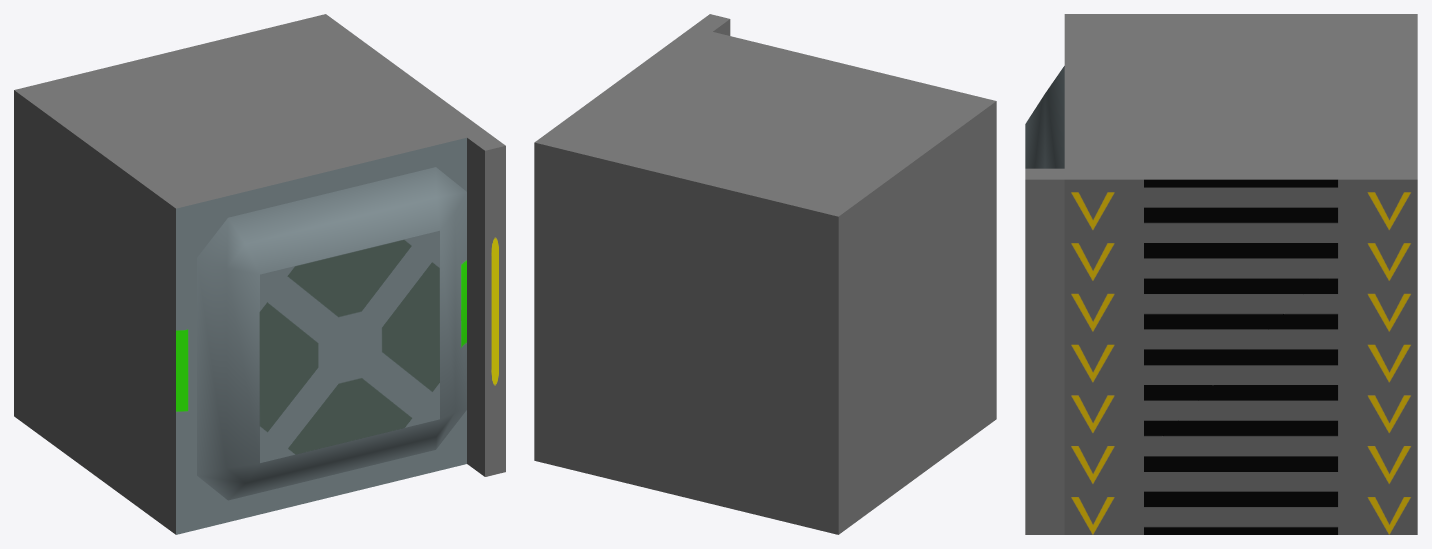
File: MidPartPitLeft.fbx
The picture shows the model from 3 angles, left to right: view 1: azimuth 30°, elevation 25°; view 2: azimuth 150°, elevation 25°; view 3: azimuth 270°, elevation 25°; orthographic projection. The views are drawn at different scales.
Parts seen in each view (by area): view 1: geo1; view 2: geo1; view 3: geo1.
Boxes of the visible parts, x1=… form: geo1: x1=14, y1=14, x2=505, y2=534; geo1: x1=534, y1=14, x2=996, y2=534; geo1: x1=1025, y1=14, x2=1417, y2=534.
Bounding box in the file's own units: 3 × 3 × 3.
